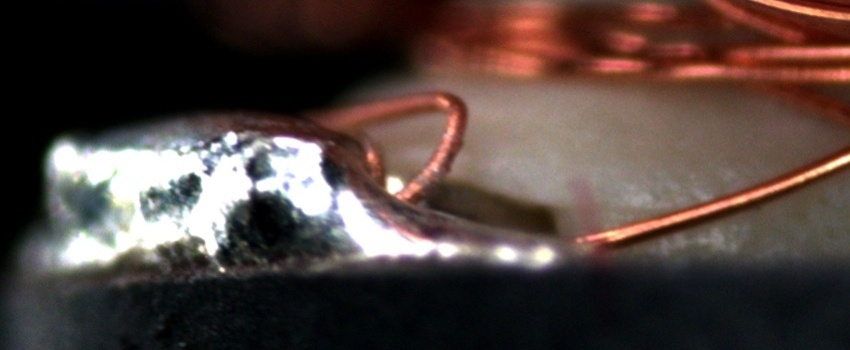TE: (310, 85, 471, 212)
